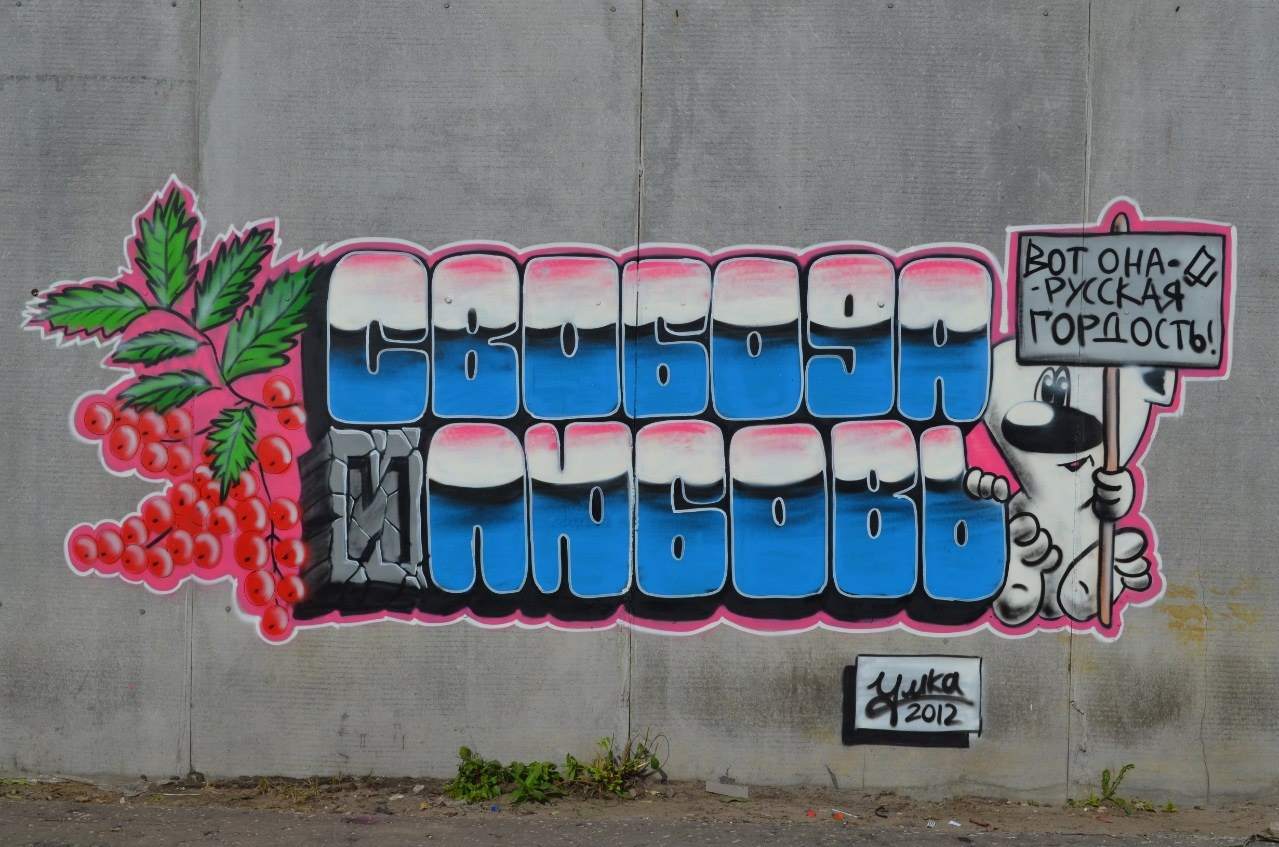graphite: (311, 248, 1021, 642), (39, 189, 308, 638), (1015, 207, 1235, 682), (846, 638, 1010, 763)
